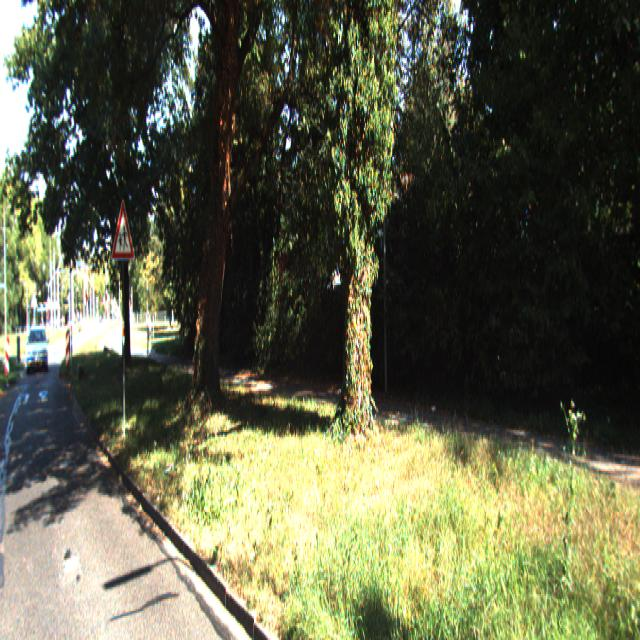Car: (26, 327, 46, 376)
